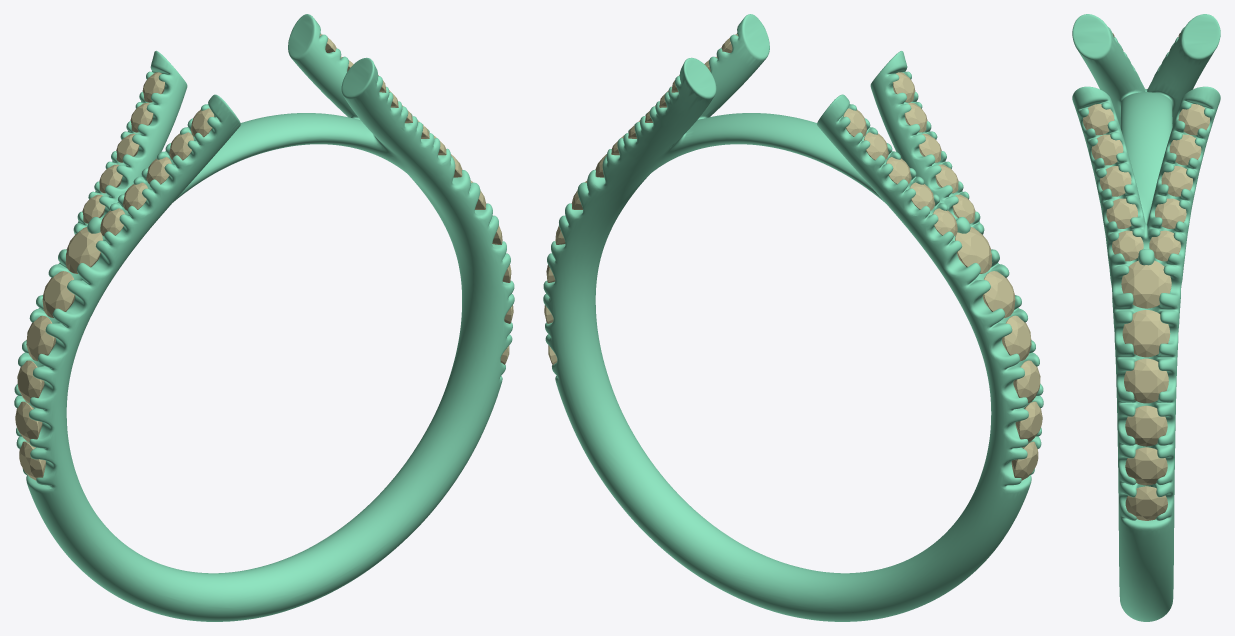
3 renders of one model, left to right at view 1: azimuth 30°, elevation 25°; view 2: azimuth 150°, elevation 25°; view 3: azimuth 270°, elevation 25°, orthographic. The views are drawn at different scales.
Parts seen in each view (by area): view 1: Metal02, Diamond_Gem, Diamond_Gem.001, Diamond_Gem.002, Diamond_Gem.005, Diamond_Gem.004; view 2: Metal02, Diamond_Gem, Diamond_Gem.001, Diamond_Gem.002, Diamond_Gem.005, Diamond_Gem.004; view 3: Metal02, Diamond_Gem.031, Diamond_Gem.030, Diamond_Gem.029, Diamond_Gem.026, Diamond_Gem.027, Diamond_Gem.028, Diamond_Gem.025, Diamond_Gem.016, Diamond_Gem.021, Diamond_Gem.022, Diamond_Gem.017 (+5 smaller).
Boxes of the visible parts, bbox=[...] form: Metal02: bbox=[14, 14, 514, 621]; Diamond_Gem: bbox=[65, 227, 102, 273]; Diamond_Gem.001: bbox=[42, 271, 75, 317]; Diamond_Gem.002: bbox=[26, 315, 55, 361]; Diamond_Gem.005: bbox=[17, 360, 44, 403]; Diamond_Gem.004: bbox=[15, 401, 42, 442]; Metal02: bbox=[543, 14, 1043, 621]; Diamond_Gem: bbox=[955, 227, 992, 273]; Diamond_Gem.001: bbox=[982, 271, 1015, 317]; Diamond_Gem.002: bbox=[1002, 315, 1031, 361]; Diamond_Gem.005: bbox=[1013, 360, 1040, 403]; Diamond_Gem.004: bbox=[1015, 401, 1042, 442]; Metal02: bbox=[1072, 14, 1220, 621]; Diamond_Gem.031: bbox=[1121, 260, 1171, 308]; Diamond_Gem.030: bbox=[1122, 310, 1170, 357]; Diamond_Gem.029: bbox=[1124, 358, 1168, 403]; Diamond_Gem.026: bbox=[1125, 405, 1167, 446]; Diamond_Gem.027: bbox=[1125, 447, 1167, 485]; Diamond_Gem.028: bbox=[1125, 486, 1167, 520]; Diamond_Gem.025: bbox=[1112, 230, 1143, 261]; Diamond_Gem.016: bbox=[1149, 230, 1180, 261]; Diamond_Gem.021: bbox=[1083, 104, 1114, 135]; Diamond_Gem.022: bbox=[1091, 134, 1123, 165]; Diamond_Gem.017: bbox=[1155, 198, 1186, 228].
Bounding box in the file's own units: 20.87 × 22.83 × 5.62.
